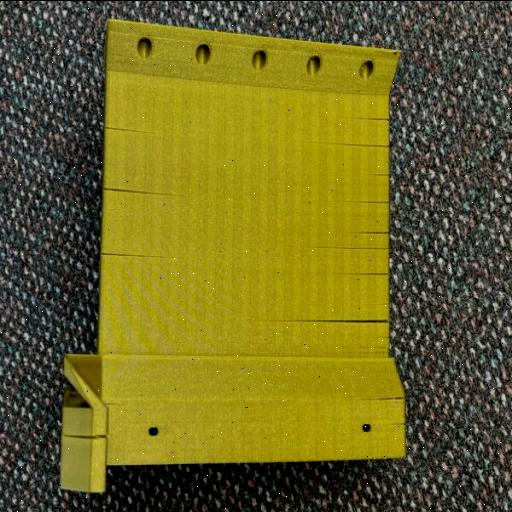cracks: (332, 169, 410, 281), (267, 294, 412, 338), (89, 167, 183, 207), (96, 234, 164, 269)
